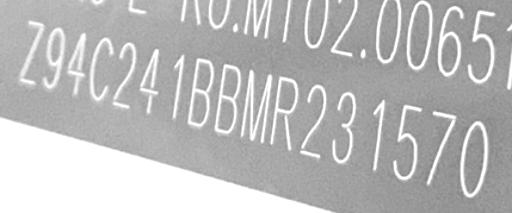letter: (239, 69, 273, 142), (458, 120, 490, 197), (424, 108, 456, 184), (268, 75, 300, 150), (392, 103, 420, 180), (299, 83, 327, 158), (330, 90, 358, 165), (186, 57, 216, 126), (213, 62, 241, 133), (110, 40, 138, 109), (18, 20, 46, 85), (88, 36, 116, 101), (364, 97, 388, 172), (136, 47, 162, 114), (164, 52, 188, 119), (42, 26, 66, 90), (67, 30, 89, 95)
